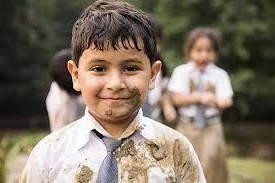earth: (129, 154, 150, 182), (163, 142, 185, 162), (78, 167, 92, 182), (120, 143, 134, 157)
